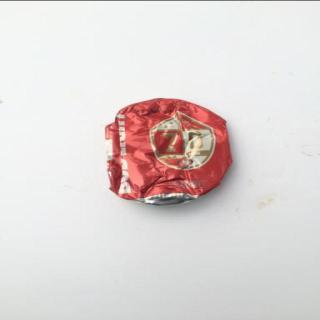Anorganik: (100, 95, 238, 208)
